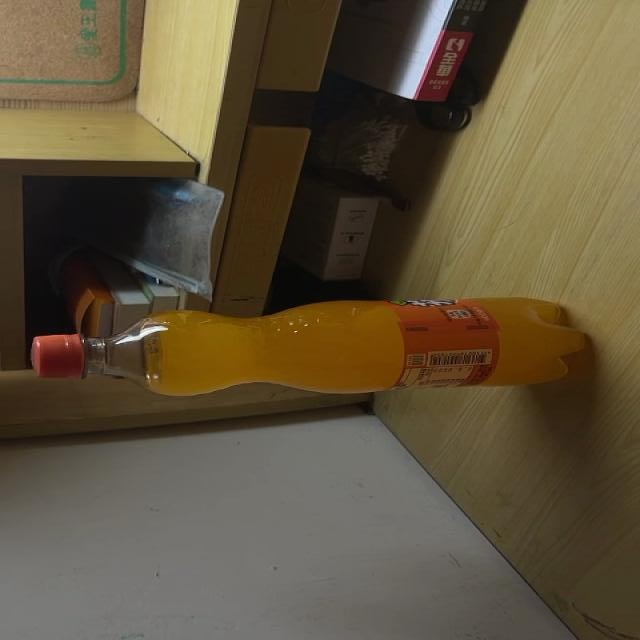Fanta: (29, 292, 582, 398)
